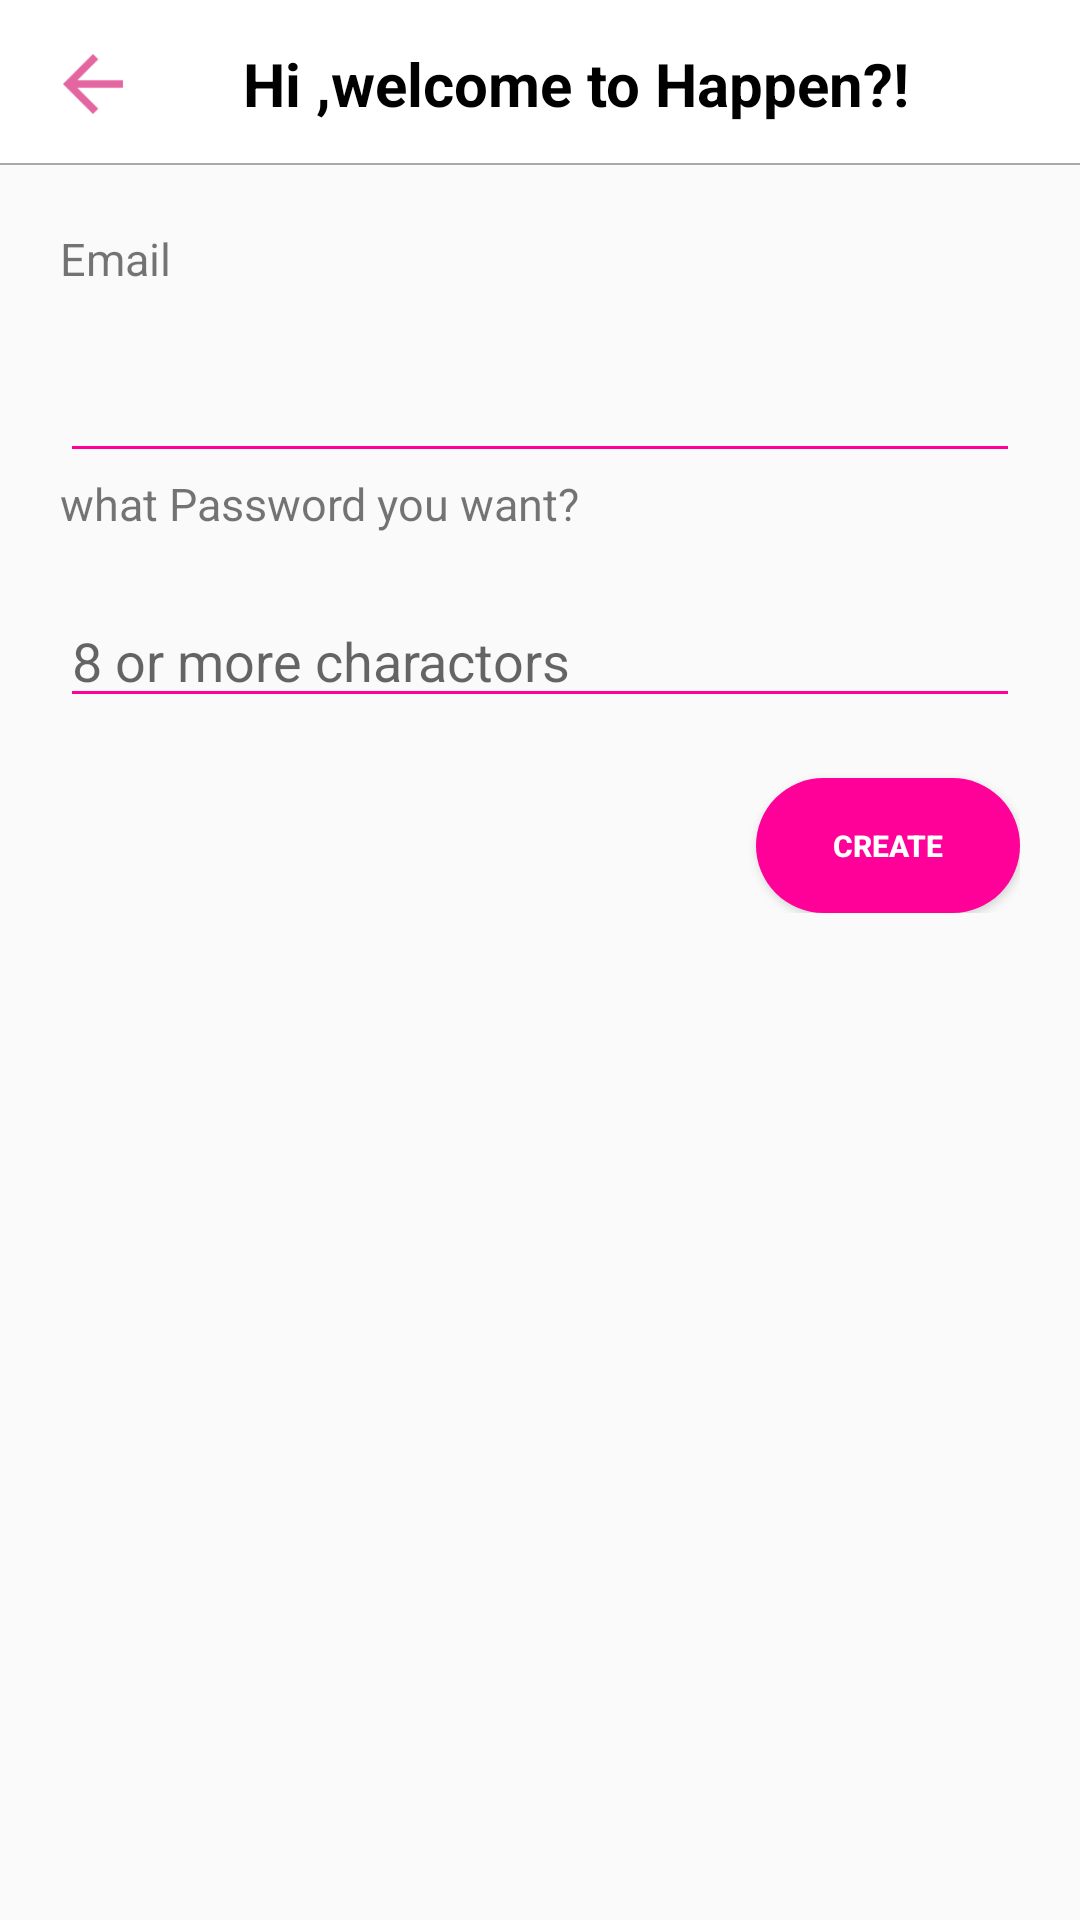

Point at icon controls on the screen. Image size 1080w x 1920h, points as point (x, y).
back: point (93, 84)
